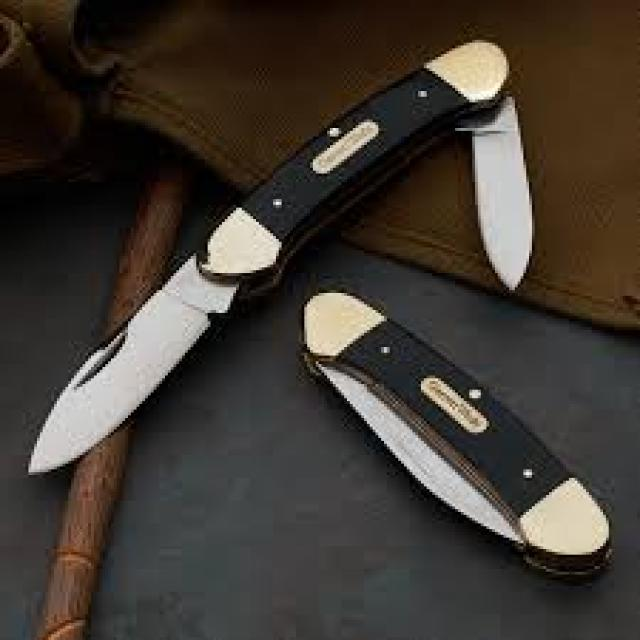knives: (9, 215, 257, 478), (426, 52, 570, 302)
